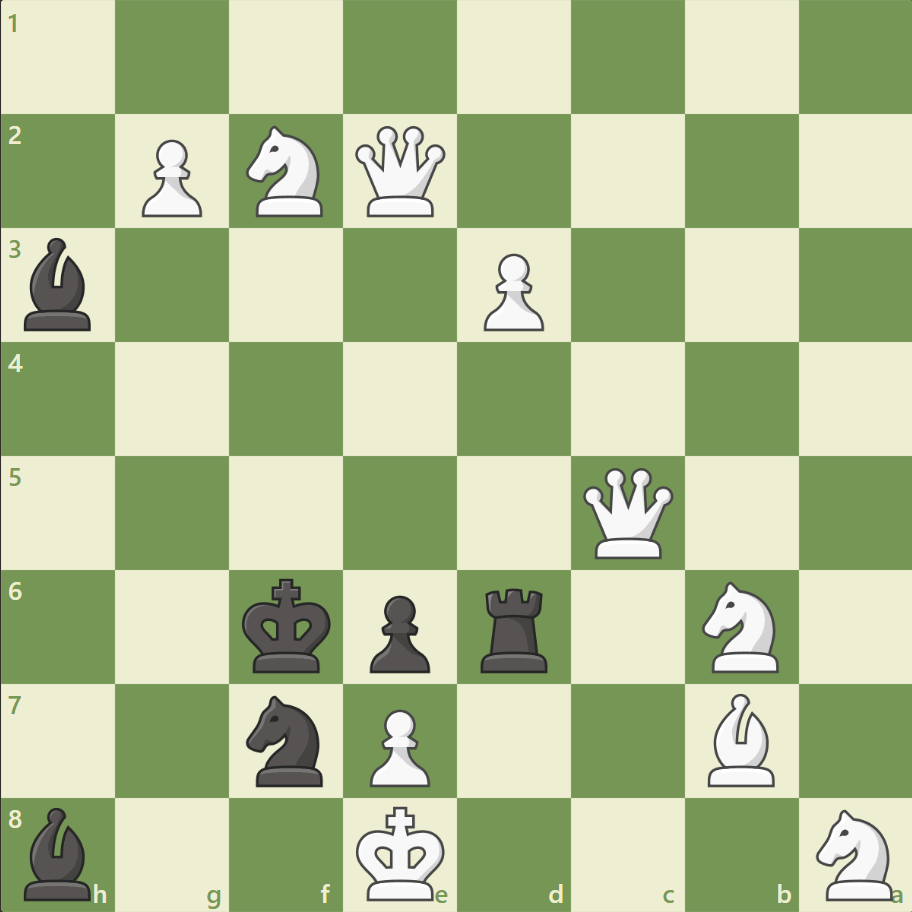B: (698, 687, 782, 790)
K: (351, 798, 451, 906)
N: (806, 802, 903, 904), (692, 575, 789, 677), (238, 121, 335, 223)
P: (474, 246, 549, 337), (133, 132, 208, 223), (361, 700, 435, 791)
Q: (351, 122, 450, 222), (578, 463, 677, 562)
b: (17, 801, 101, 904), (17, 233, 101, 336)
k: (238, 571, 338, 679)
n: (238, 688, 335, 791)
p: (361, 586, 435, 677)
r: (473, 579, 556, 676)
